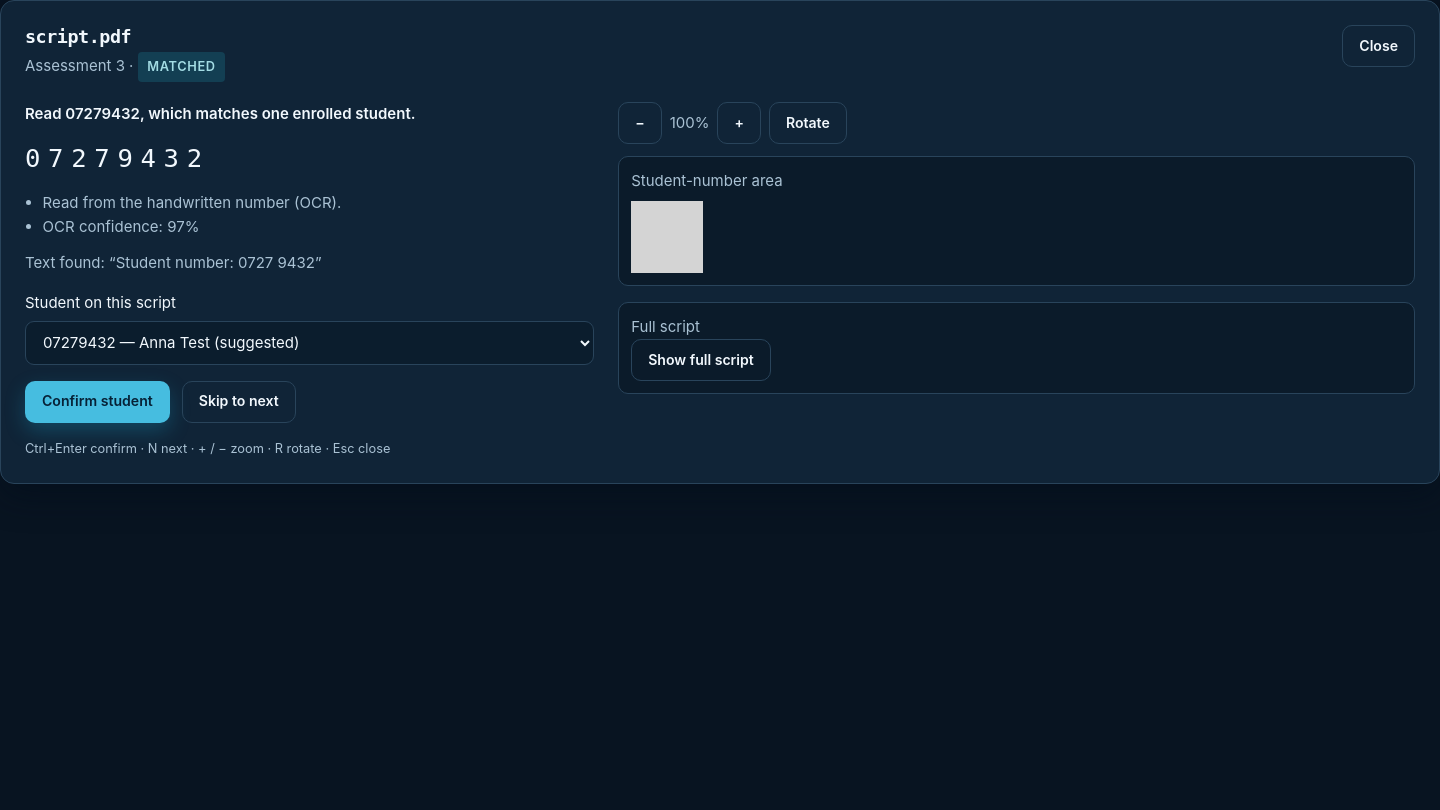
Test case: SubmissionReviewPanel › explains a stale or concurrent change instead of failing silently
Click the button with test id "confirm".
click(97, 402)  # box [25,381,170,423]
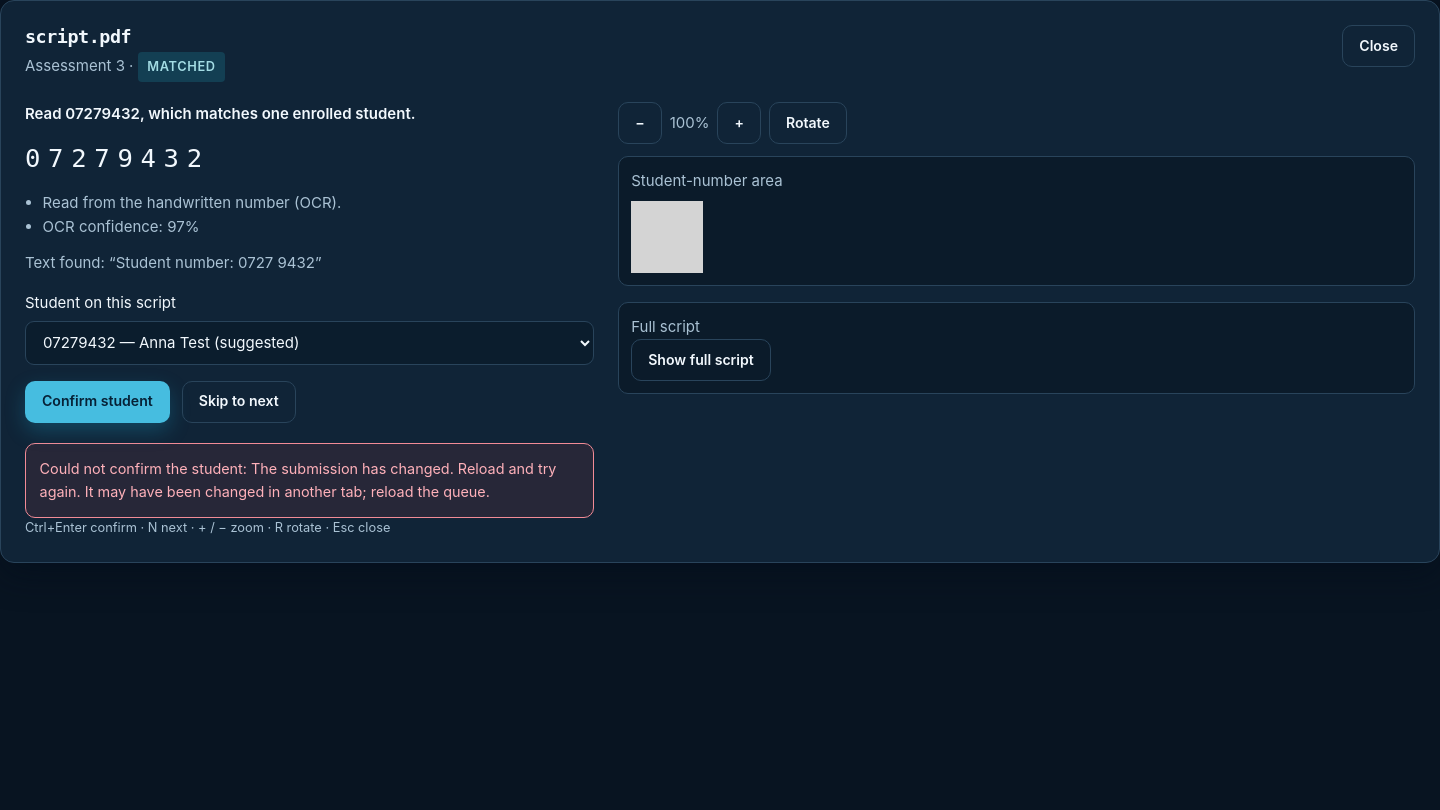
Check: the text "The submission has changed. Reload and try again." is shown, box [40,460,556,500]
Check: the text "reload the queue" is shown, box [40,460,556,500]
